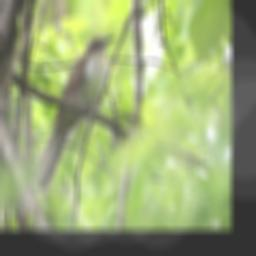Cuckoo: (31, 32, 117, 195)
